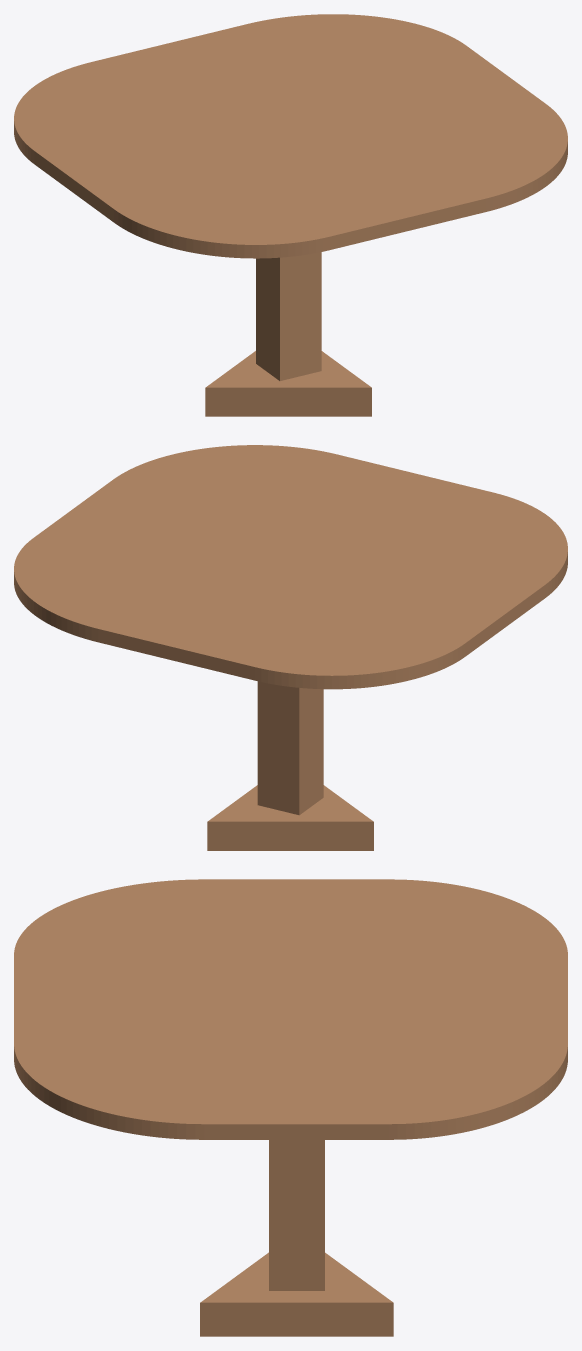
Rendered from Table.glb.
The picture shows the model from 3 angles, top to bottom: view 1: azimuth 30°, elevation 25°; view 2: azimuth 150°, elevation 25°; view 3: azimuth 270°, elevation 25°; orthographic projection. The views are drawn at different scales.
Parts seen in each view (by area): view 1: Table-convcol; view 2: Table-convcol; view 3: Table-convcol.
Boxes of the visible parts, box(x1,y1,x2,y2) form: Table-convcol: box(14, 14, 567, 416); Table-convcol: box(14, 445, 567, 850); Table-convcol: box(14, 879, 567, 1336).
Bounding box in the file's own units: 15.54 × 9.24 × 14.86.
